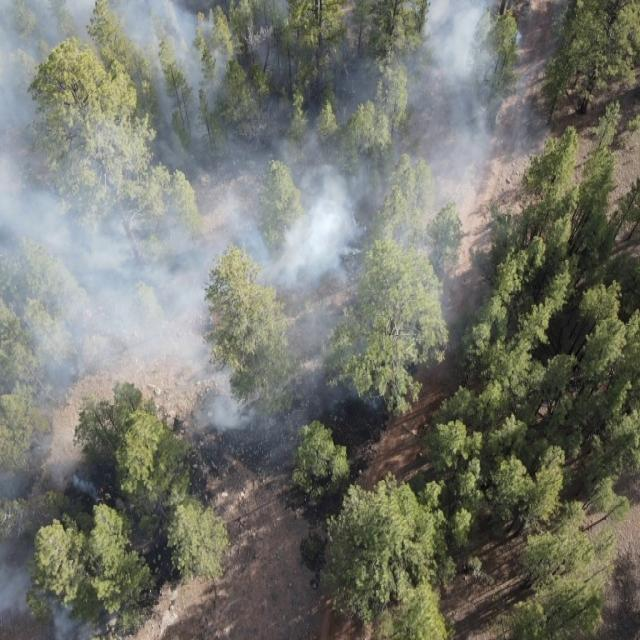fire: (95, 483, 109, 499)
smoke: (0, 0, 548, 446), (0, 445, 124, 640)
